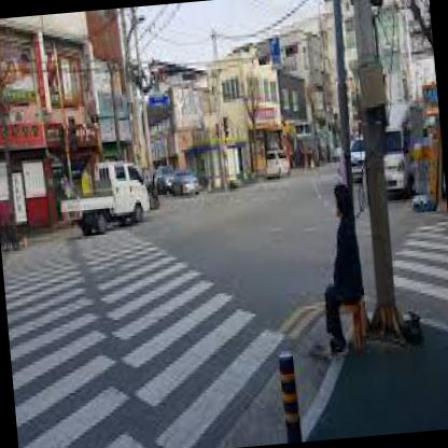silver: (311, 184, 367, 363)
